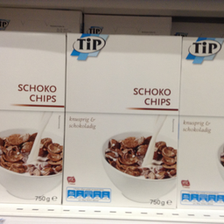cereal: (63, 32, 184, 209), (1, 32, 65, 204), (180, 36, 223, 210)
